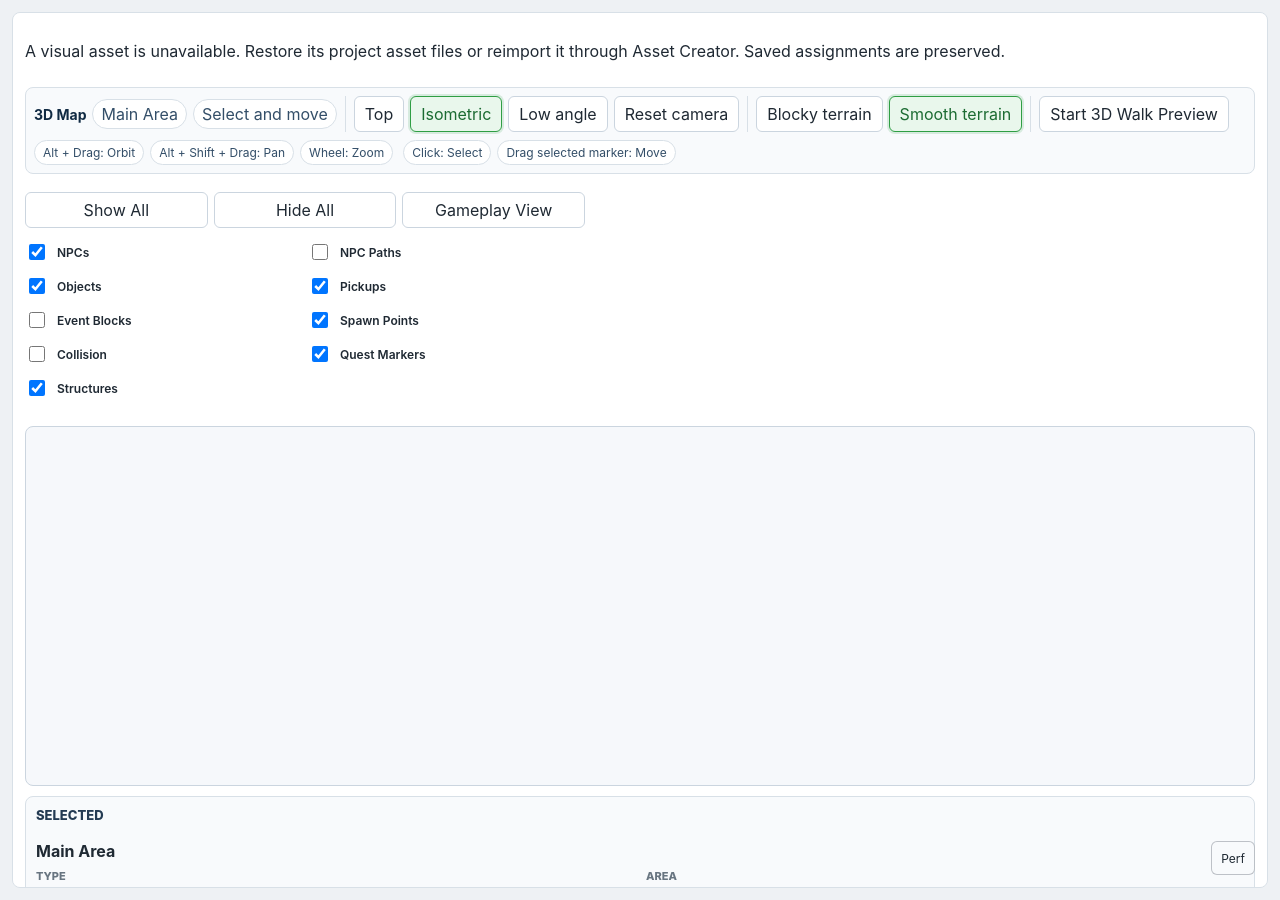
Test case: ThreeDPreview › starts and stops the experimental 3D walk preview
Step 1. Click the button "Start 3D Walk Preview" → (1134, 114), box [1039, 96, 1229, 132]
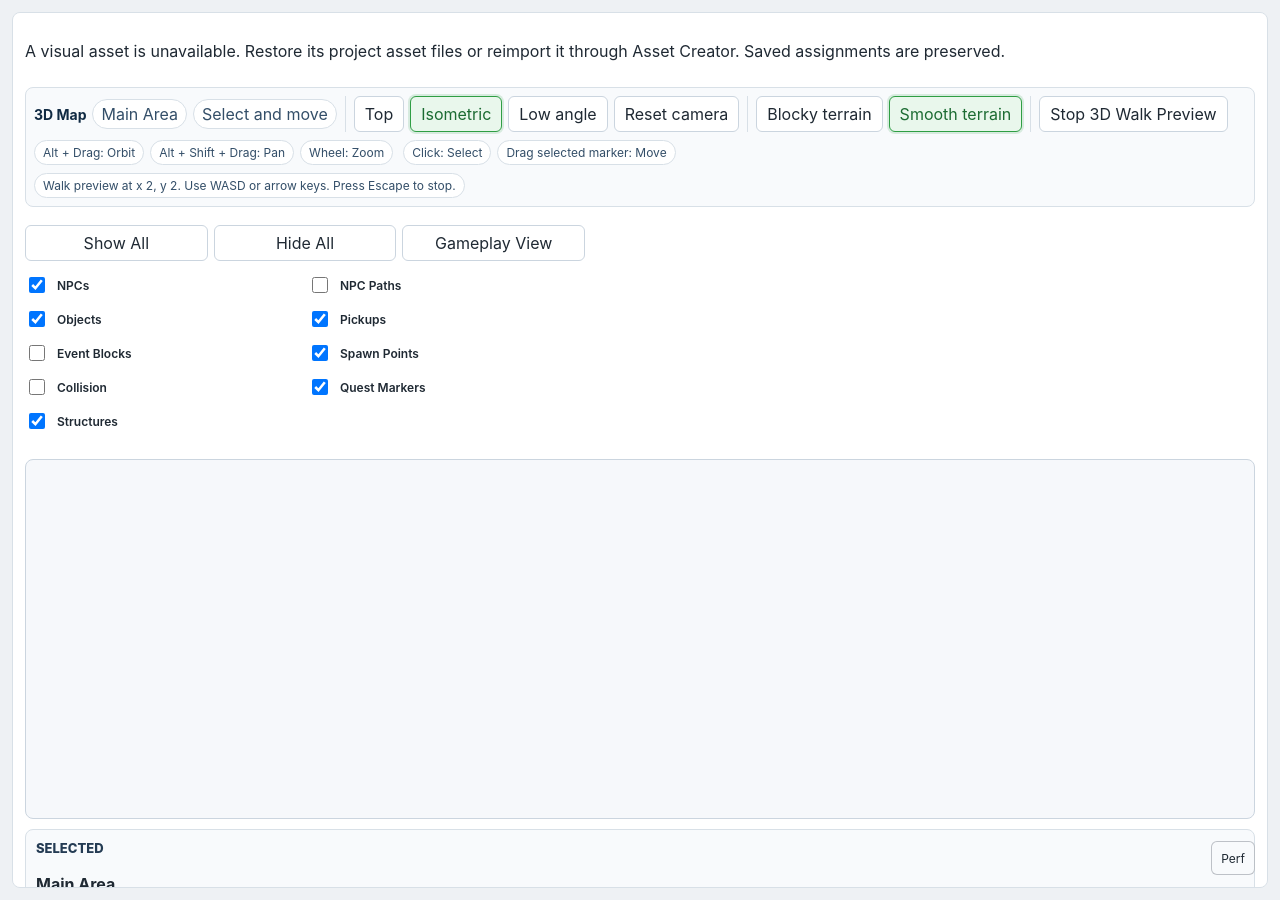
Result: the button "Stop 3D Walk Preview" is shown at [1039, 96, 1228, 132]
Result: the text "Walk preview at x" is shown at [43, 178, 456, 193]
Step 2. Press Escape
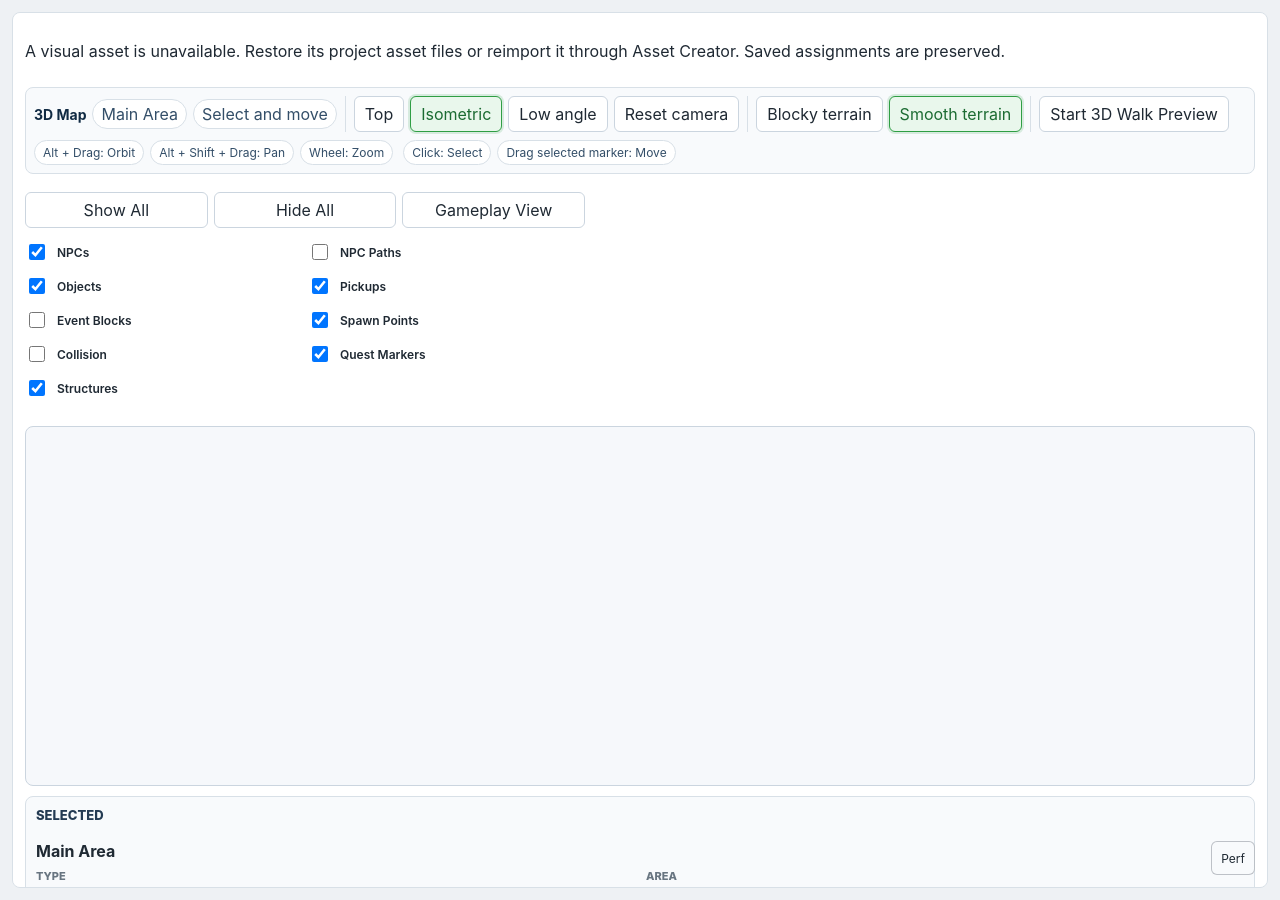
Result: the button "Start 3D Walk Preview" is shown at [1039, 96, 1229, 132]
